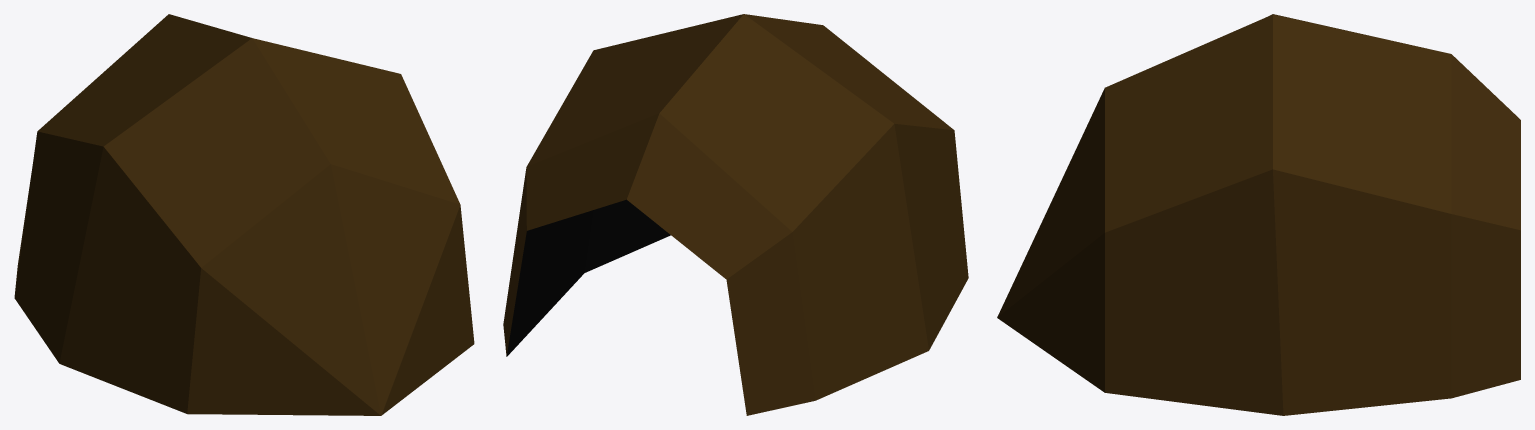
The model's file is Rabbit Den.fbx.
3 views of the same model, side by side, from view 1: azimuth 30°, elevation 25°; view 2: azimuth 150°, elevation 25°; view 3: azimuth 270°, elevation 25° (orthographic). The views are drawn at different scales.
Visible parts, largest first — view 1: Circle; view 2: Circle; view 3: Circle.
Boxes of the visible parts, x1,y1,x2,y2 form: Circle: (14, 14, 474, 415); Circle: (503, 14, 968, 415); Circle: (997, 14, 1520, 415).
Size of the model in its own units: 160 by 115 by 180.
